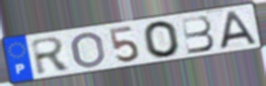5: (107, 24, 141, 64)
A: (219, 9, 259, 51)
B: (179, 14, 217, 56)
O: (141, 19, 183, 59), (70, 31, 108, 69)
R: (29, 35, 73, 77)
